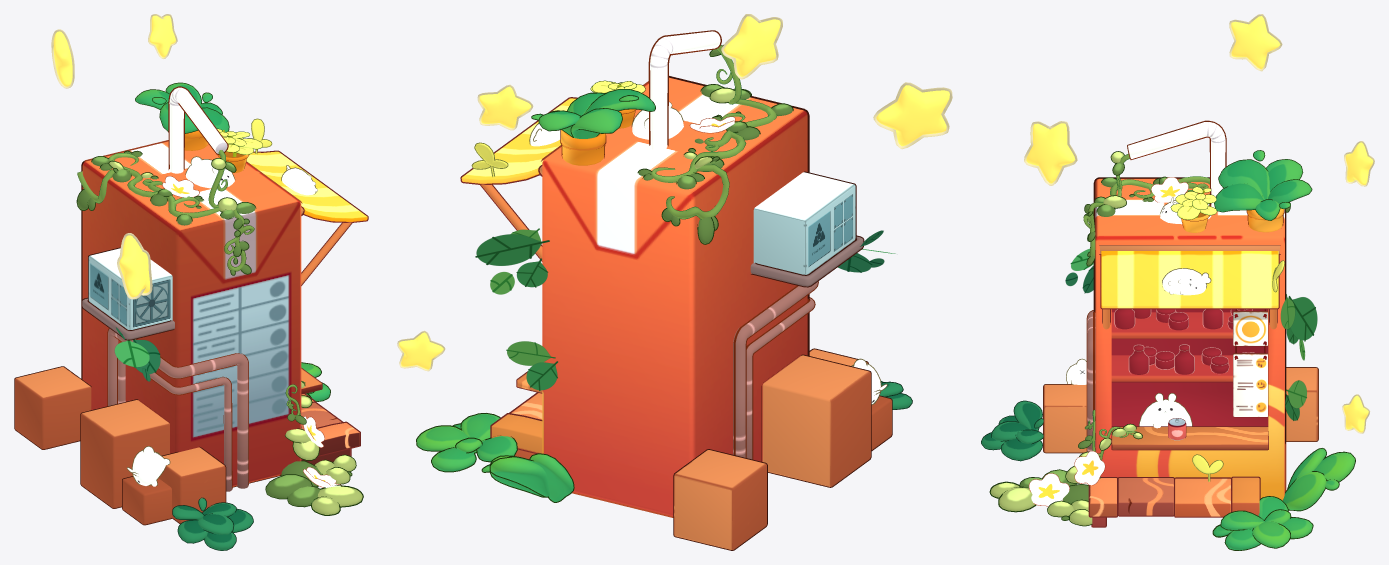
3 renders of one model, left to right at view 1: azimuth 30°, elevation 25°; view 2: azimuth 150°, elevation 25°; view 3: azimuth 270°, elevation 25°, orthographic. The views are drawn at different scales.
Parts seen in each view (by area): view 1: Juice_Box, Plant_3, Box.002, Pipeline, Air-conditioning, Box.003, Box.001, Veg_1, Plant_2, Box, Star, Board.001 (+11 smaller); view 2: Juice_Box, Box.002, Air-conditioning, Box.003, Plant_3, Plant_2, Pipeline, Veg_2, Star, Veg_3, Star.003, Star.001 (+8 smaller); view 3: Juice_Box, Plant_3, Plant_2, Veg_2, Box.001, Veg_3, Veg_1, Board.003, Star, Board.002, Star.003, Box.003 (+15 smaller).
Boxes of the visible parts, x1,y1,x2,y2 form: Juice_Box: (81, 86, 368, 487); Plant_3: (76, 150, 363, 515); Box.002: (80, 399, 169, 508); Pipeline: (107, 328, 248, 491); Air-conditioning: (81, 247, 174, 340); Box.003: (14, 366, 91, 449); Box.001: (159, 446, 226, 523); Veg_1: (172, 497, 253, 550); Plant_2: (135, 82, 229, 150); Box: (122, 476, 172, 525); Star: (117, 233, 152, 299); Board.001: (301, 421, 360, 464); Juice_Box: (460, 30, 809, 517); Box.002: (761, 354, 871, 487); Air-conditioning: (750, 171, 864, 287); Box.003: (673, 449, 767, 550); Plant_3: (637, 45, 793, 244); Plant_2: (531, 89, 655, 165); Pipeline: (733, 281, 818, 459); Veg_2: (416, 413, 517, 472); Star: (873, 82, 952, 149); Veg_3: (481, 453, 574, 502); Star.003: (721, 14, 782, 79); Star.001: (477, 84, 533, 130); Juice_Box: (1093, 120, 1286, 500); Plant_3: (989, 151, 1290, 526); Plant_2: (1214, 150, 1312, 232); Veg_2: (1212, 496, 1313, 550); Box.001: (1043, 384, 1086, 453); Veg_3: (1282, 448, 1355, 511); Veg_1: (981, 400, 1043, 461); Board.003: (1174, 477, 1231, 517); Star: (1024, 121, 1077, 185); Board.002: (1118, 477, 1174, 516); Star.003: (1229, 14, 1282, 71); Box.003: (1286, 367, 1318, 441).
Size of the model in its own units: 3.26 by 4.15 by 3.52.
Materials: 4 (4 with a texture image).
